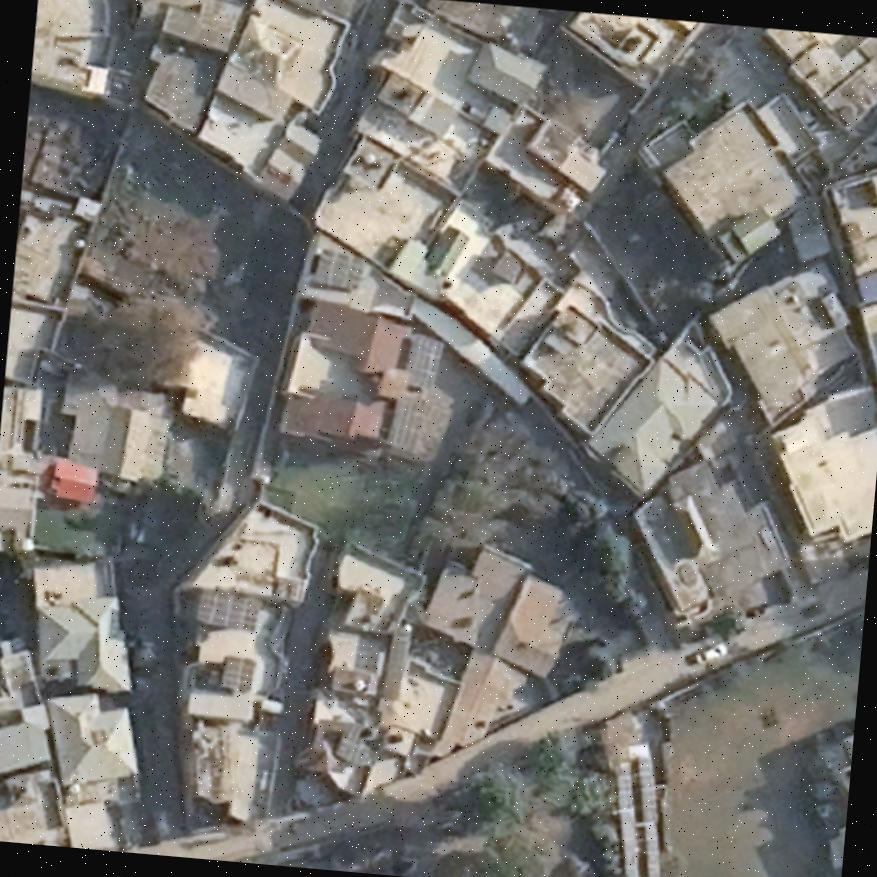Solarpanel: (192, 584, 260, 632), (398, 330, 446, 392), (306, 245, 364, 292), (381, 395, 424, 455), (216, 654, 254, 694), (339, 725, 372, 766)
